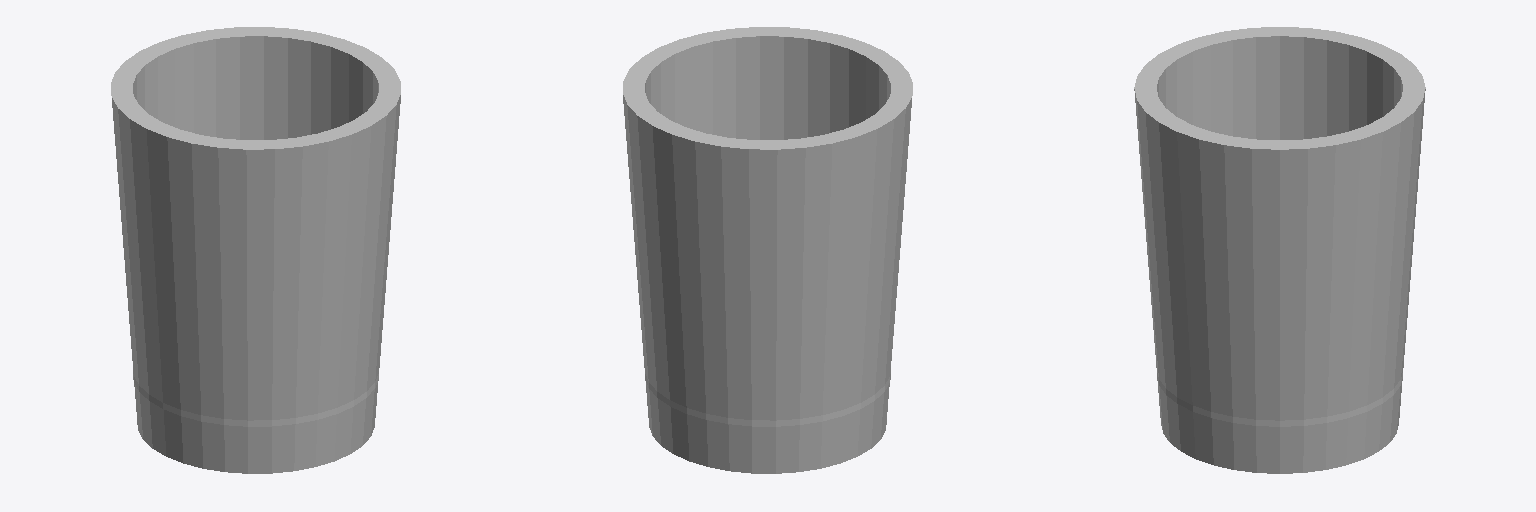
The model's file is round_trash_can.obj.
The picture shows the model from 3 angles: view 1: azimuth 30°, elevation 25°; view 2: azimuth 150°, elevation 25°; view 3: azimuth 270°, elevation 25°; orthographic projection.
Parts seen in each view (by area): view 1: Cylinder; view 2: Cylinder; view 3: Cylinder.
Part boxes in pixels (bbox=[...]): Cylinder: bbox=[111, 27, 400, 473]; Cylinder: bbox=[623, 27, 912, 473]; Cylinder: bbox=[1134, 27, 1425, 473].
Size of the model in its own units: 2.45 by 3.11 by 2.45.